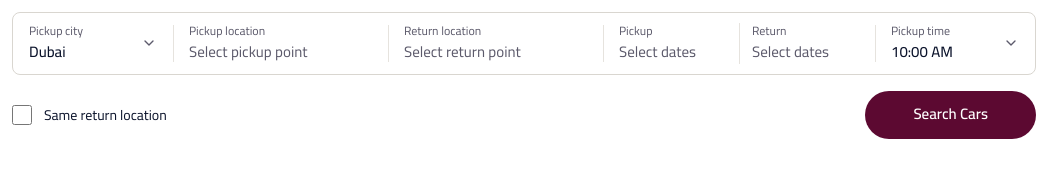
SearchWidget › layout="row" (homepage search bar) › stacks the fields on small screens and joins them into one bar from lg up
The image size is (1048, 190).
Expected: the button "Pickup location Select pickup point" is shown, [173, 13, 388, 74]
Click the button "Search Cars": [951, 114] box [865, 90, 1036, 138]
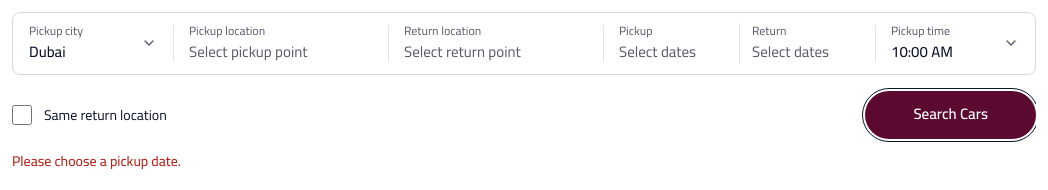
Expected: the text "Please choose a pickup date." is shown, [12, 148, 181, 174]
